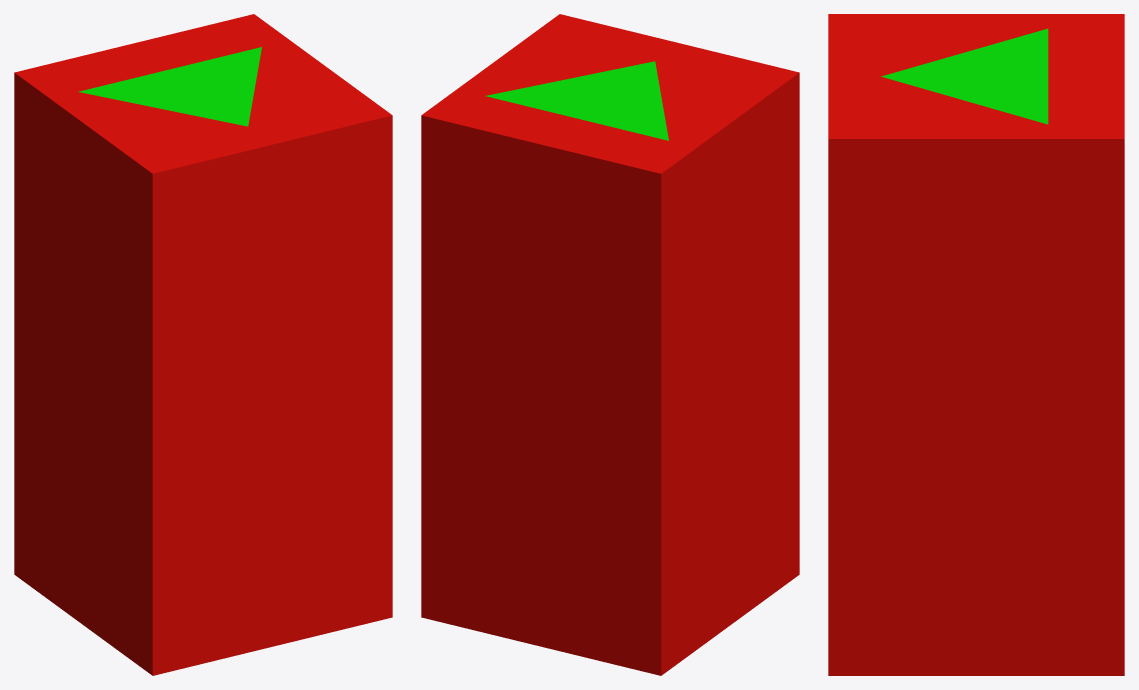
File: block water 1.fbx
3 views of the same model, side by side, from view 1: azimuth 30°, elevation 25°; view 2: azimuth 150°, elevation 25°; view 3: azimuth 270°, elevation 25° (orthographic). The views are drawn at different scales.
Visible parts, largest first — view 1: block template.002; view 2: block template.002; view 3: block template.002.
Boxes of the visible parts, x1=… form: block template.002: x1=14, y1=14, x2=392, y2=675; block template.002: x1=421, y1=14, x2=799, y2=675; block template.002: x1=828, y1=14, x2=1124, y2=675.
Size of the model in its own units: 100 by 200 by 100.
